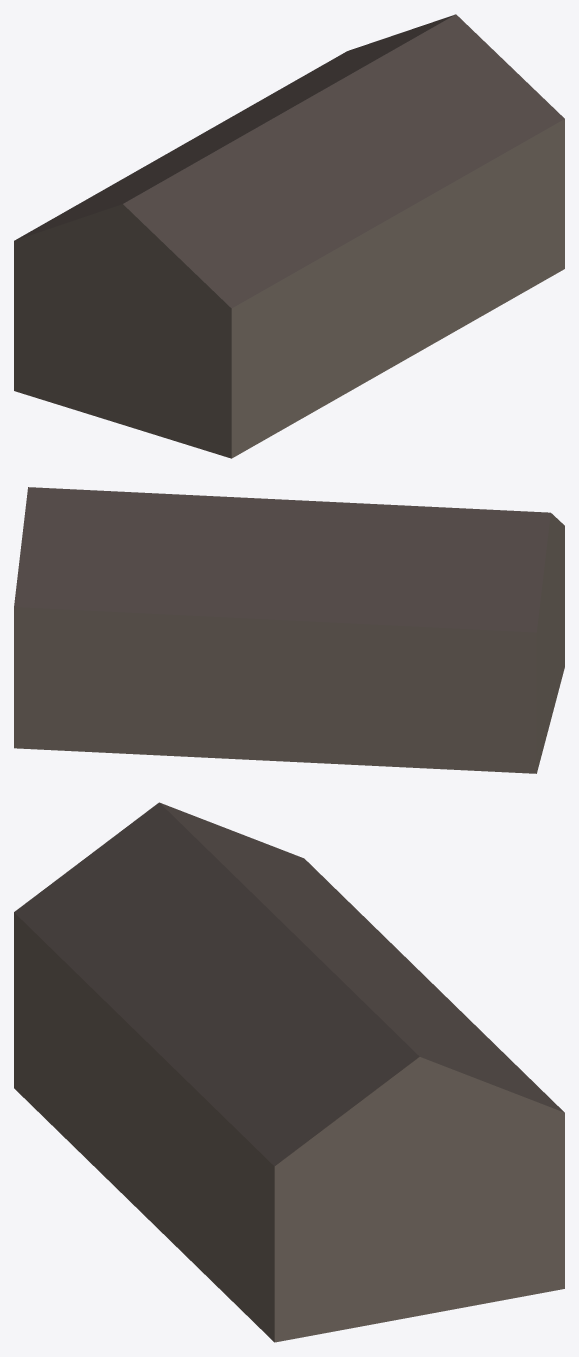
3 views of the same model, one above another, from view 1: azimuth 30°, elevation 25°; view 2: azimuth 150°, elevation 25°; view 3: azimuth 270°, elevation 25° (orthographic). The views are drawn at different scales.
Visible parts, largest first — view 1: HP-w693448179; view 2: HP-w693448179; view 3: HP-w693448179.
Boxes of the visible parts, box(x1,y1,x2,y2) form: HP-w693448179: box(14, 14, 564, 458); HP-w693448179: box(14, 487, 564, 773); HP-w693448179: box(14, 802, 564, 1342).
Bounding box in the file's own units: 22.52 × 8.83 × 17.02.
